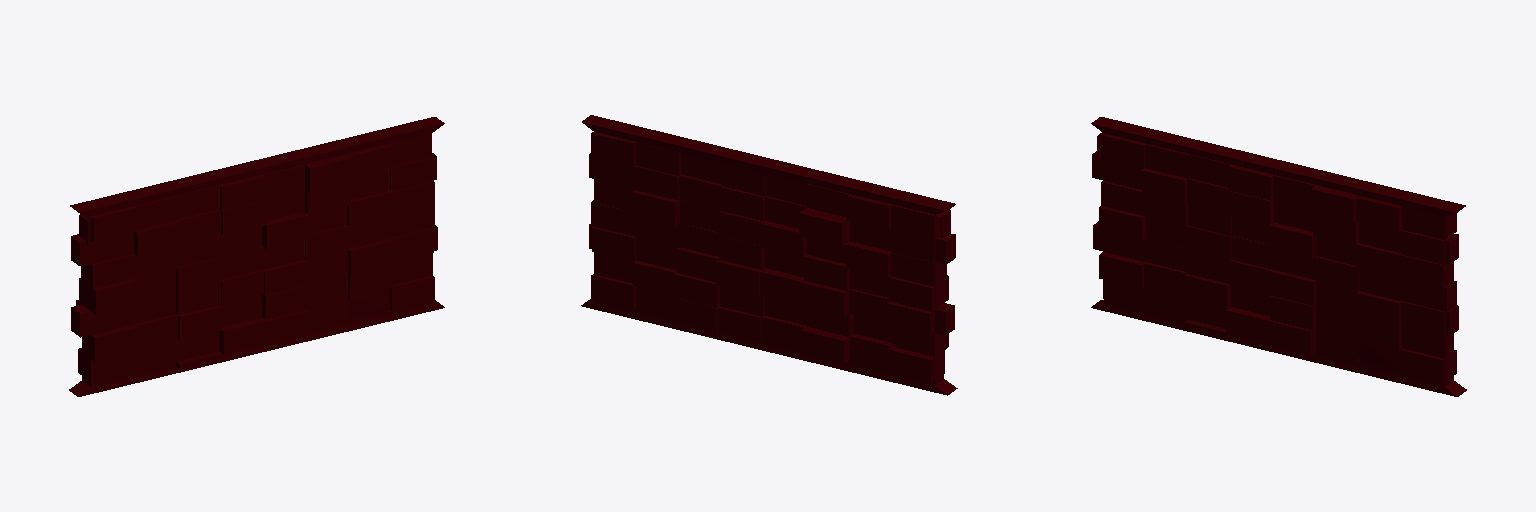
File: wall3.obj
3 views of the same model, side by side, from view 1: azimuth 30°, elevation 25°; view 2: azimuth 150°, elevation 25°; view 3: azimuth 330°, elevation 25° (orthographic).
Visible parts, largest first — view 1: Cube; view 2: Cube; view 3: Cube.
Part boxes in pixels (x1,y1,x2,y2): Cube: (69,117,444,396); Cube: (581,115,957,395); Cube: (1091,117,1466,396).
Size of the model in its own units: 30.61 by 14.68 by 3.32.